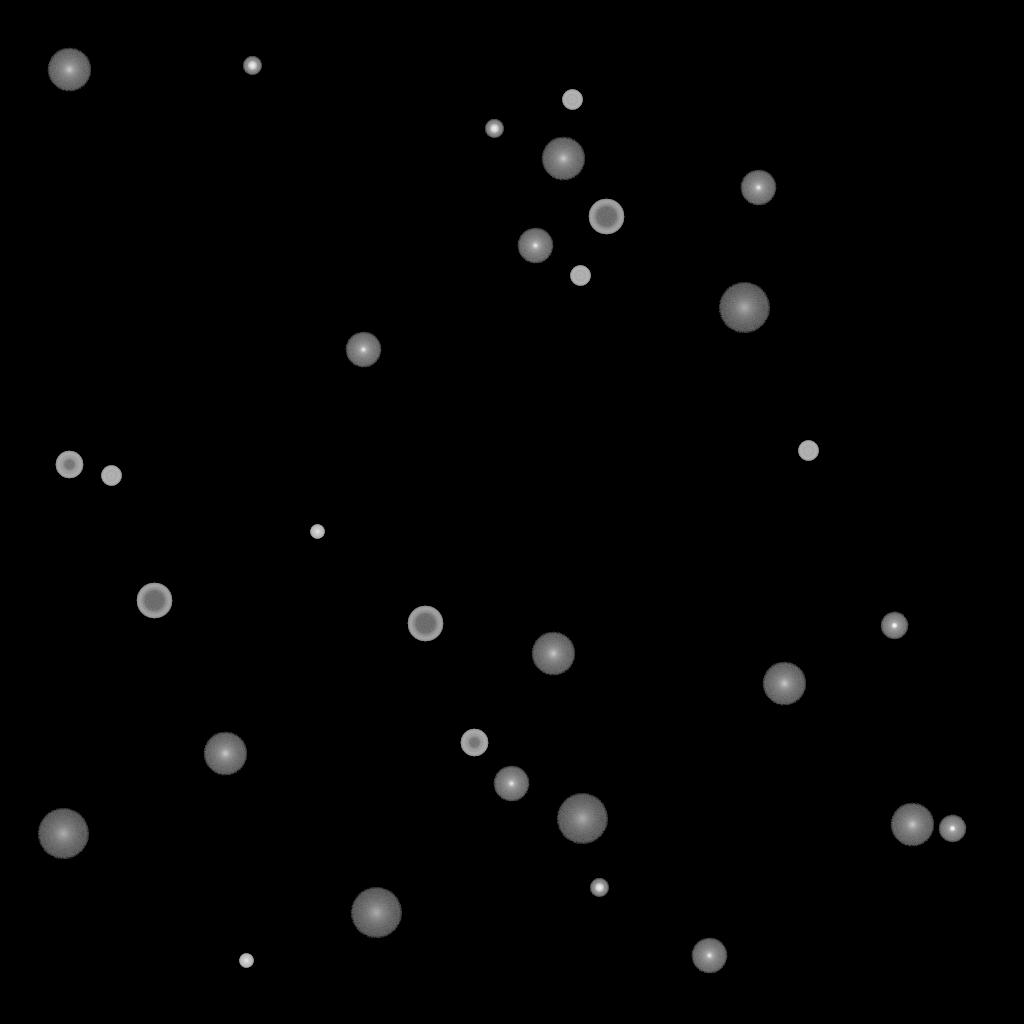depth:-10: (938, 815, 966, 843), (880, 612, 908, 640)
depth:-20: (590, 879, 608, 897), (485, 120, 503, 138), (243, 57, 261, 75)
depth:-30: (239, 954, 253, 968), (310, 525, 324, 539)
depth:-40: (101, 466, 121, 486), (570, 266, 590, 286), (798, 441, 818, 461), (562, 90, 582, 110)
depth:-50: (460, 729, 488, 757), (55, 451, 83, 479)
depth:-60: (407, 606, 443, 642), (588, 199, 624, 235), (136, 583, 172, 619)
depth:0: (517, 228, 553, 264), (345, 332, 381, 368), (493, 766, 529, 802), (691, 938, 727, 974), (740, 170, 776, 206)
depth:10: (47, 48, 91, 92), (203, 732, 247, 776), (531, 632, 575, 676), (541, 137, 585, 181), (890, 803, 934, 847), (762, 662, 806, 706)
depth:20: (37, 809, 89, 859), (718, 283, 770, 333), (556, 794, 608, 844), (350, 888, 402, 938)
